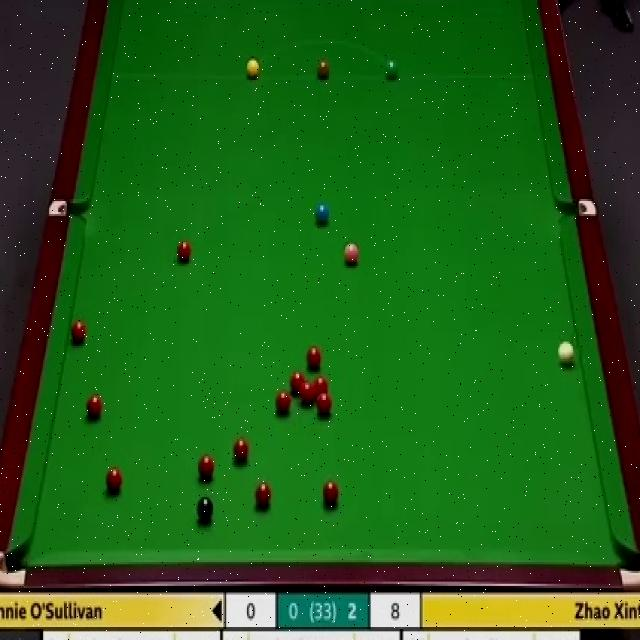black-ball: (197, 497, 214, 527)
blue-ball: (314, 201, 330, 226)
brown-ball: (316, 56, 329, 80)
green-ball: (384, 60, 398, 82)
pink-ball: (344, 242, 359, 265)
red-ball: (321, 480, 340, 509), (104, 466, 123, 495), (254, 480, 271, 510), (69, 320, 86, 348), (198, 454, 216, 480), (86, 392, 102, 421), (275, 390, 291, 416), (233, 436, 248, 463), (306, 346, 321, 372), (289, 370, 304, 395), (177, 238, 191, 262), (317, 393, 331, 416), (314, 377, 328, 399), (300, 381, 314, 402)
white-ball: (557, 340, 574, 368)
yellow-ball: (246, 59, 260, 81)
